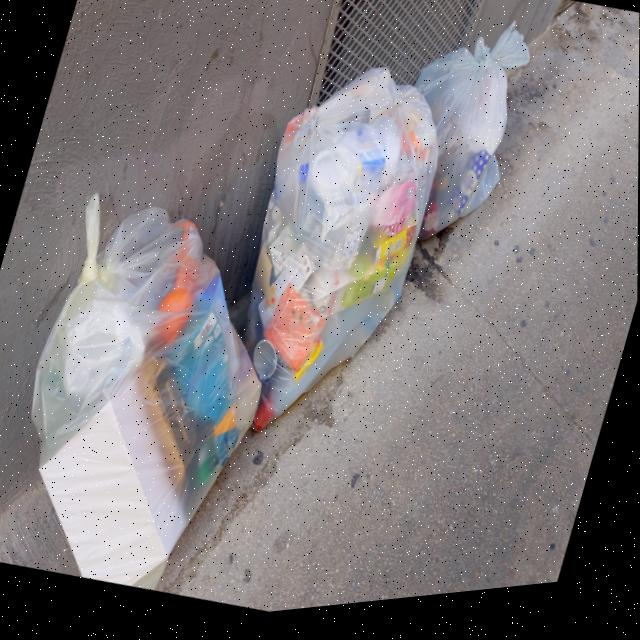Recycled Waste -Grey or Green Bag-: (1, 177, 308, 621), (201, 48, 463, 472), (373, 6, 546, 272)
